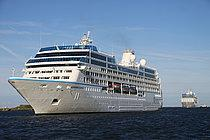Ship: (8, 27, 167, 120)
